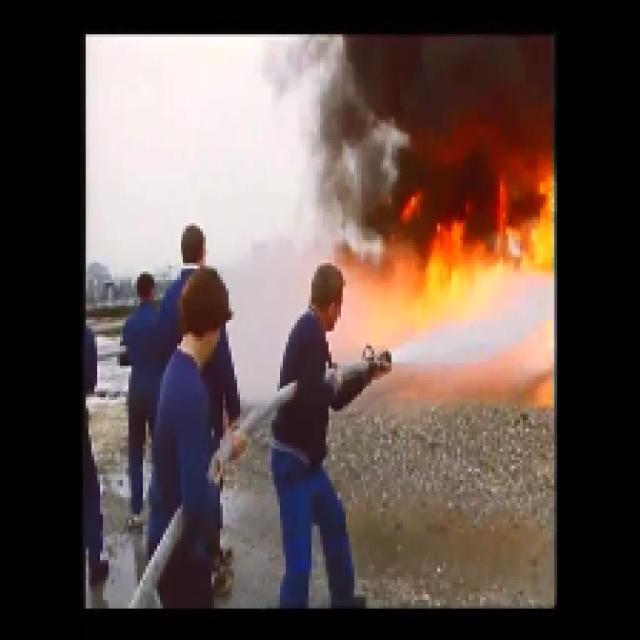Fire: (408, 213, 542, 286)
Smoke: (358, 28, 546, 184)
